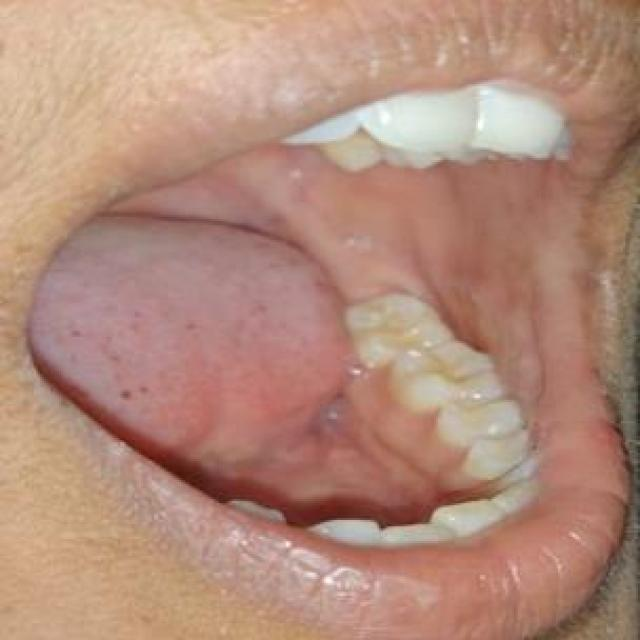processing_area: (26, 138, 576, 508)
